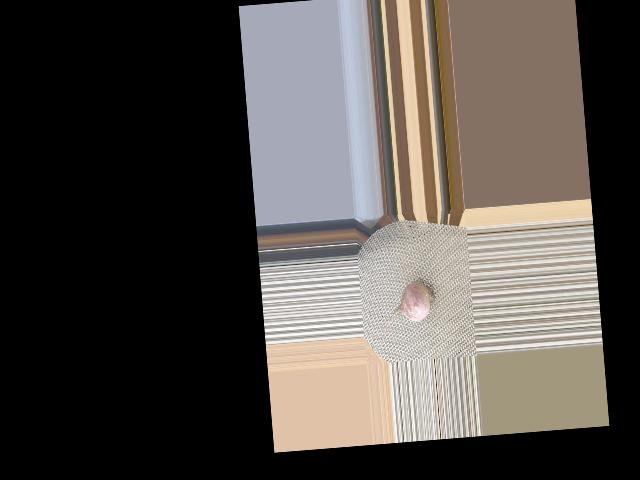beet: (378, 279, 438, 341)
